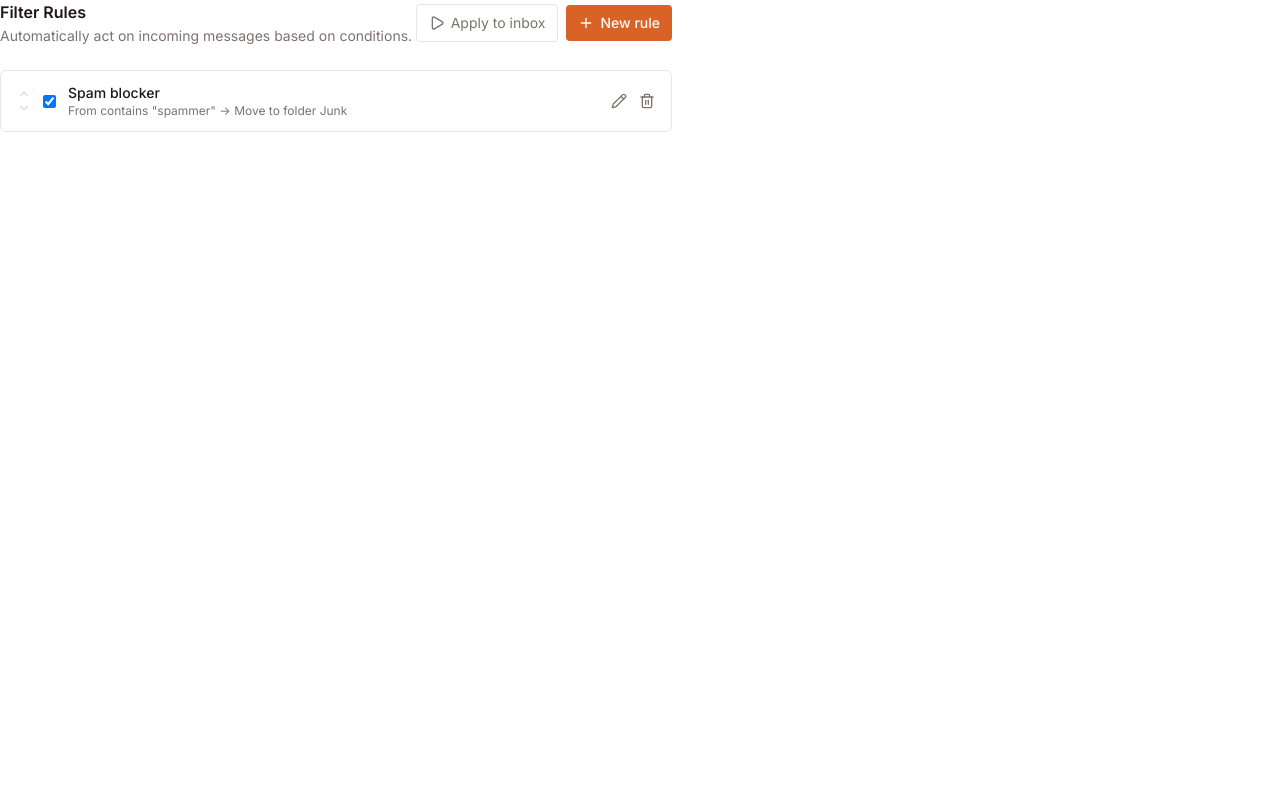
FiltersSettings › opens edit dialog when pencil button is clicked
Click the button named "Edit rule": coordinates (619, 101) x1=611 y1=93 x2=627 y2=109
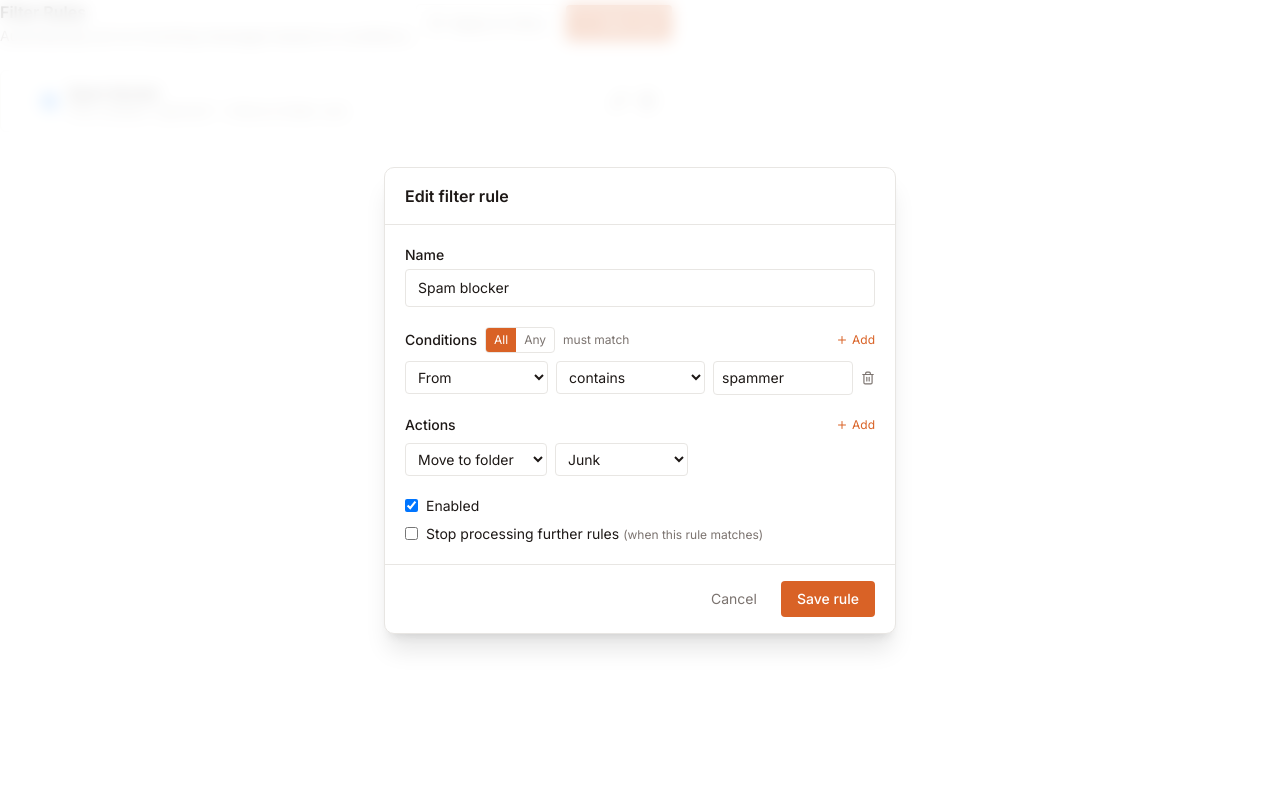
Expected: the heading "Edit filter rule" is shown, x1=405 y1=186 x2=509 y2=206
